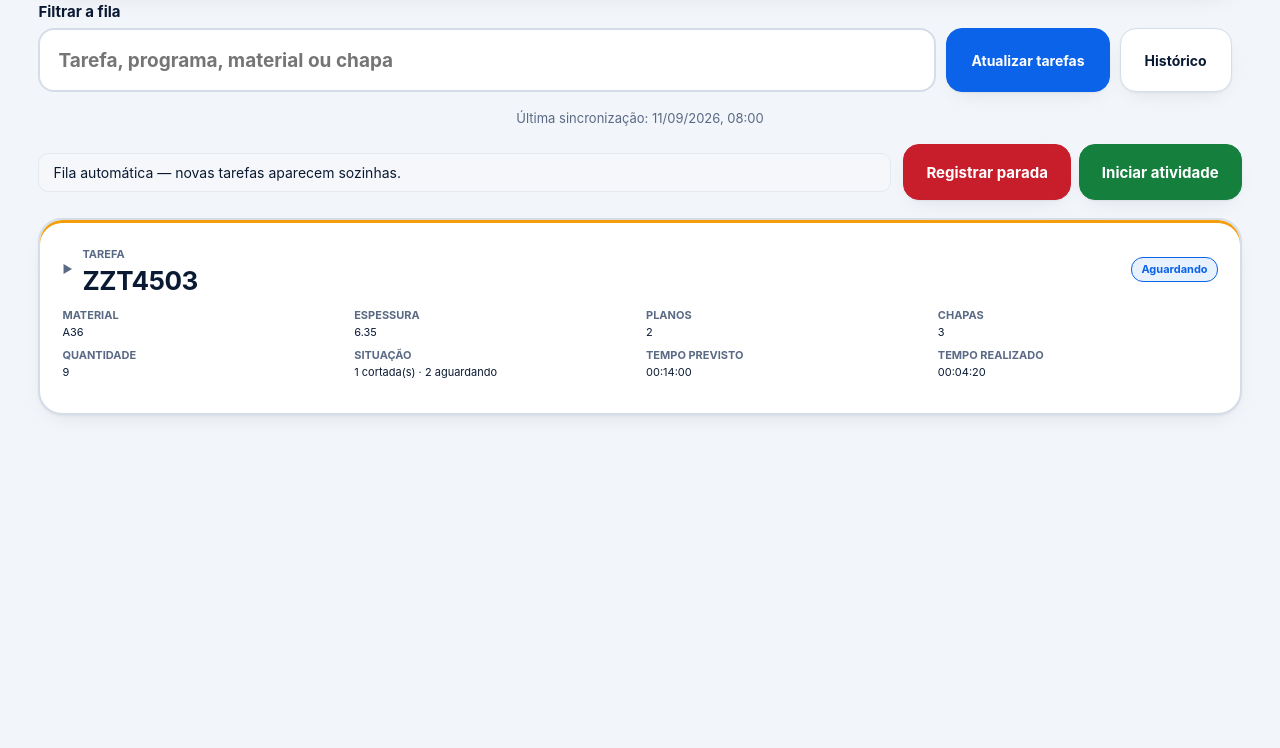
Test: hierarquia da tela de Corte › renderiza tarefa, planos, OPs e produtos sem abrir outra tela
Check: the heading "ZZT4503" is shown, box [82, 265, 198, 296]
Click the button "▶ Tarefa ZZT4503" at (130, 269), box [62, 242, 198, 296]
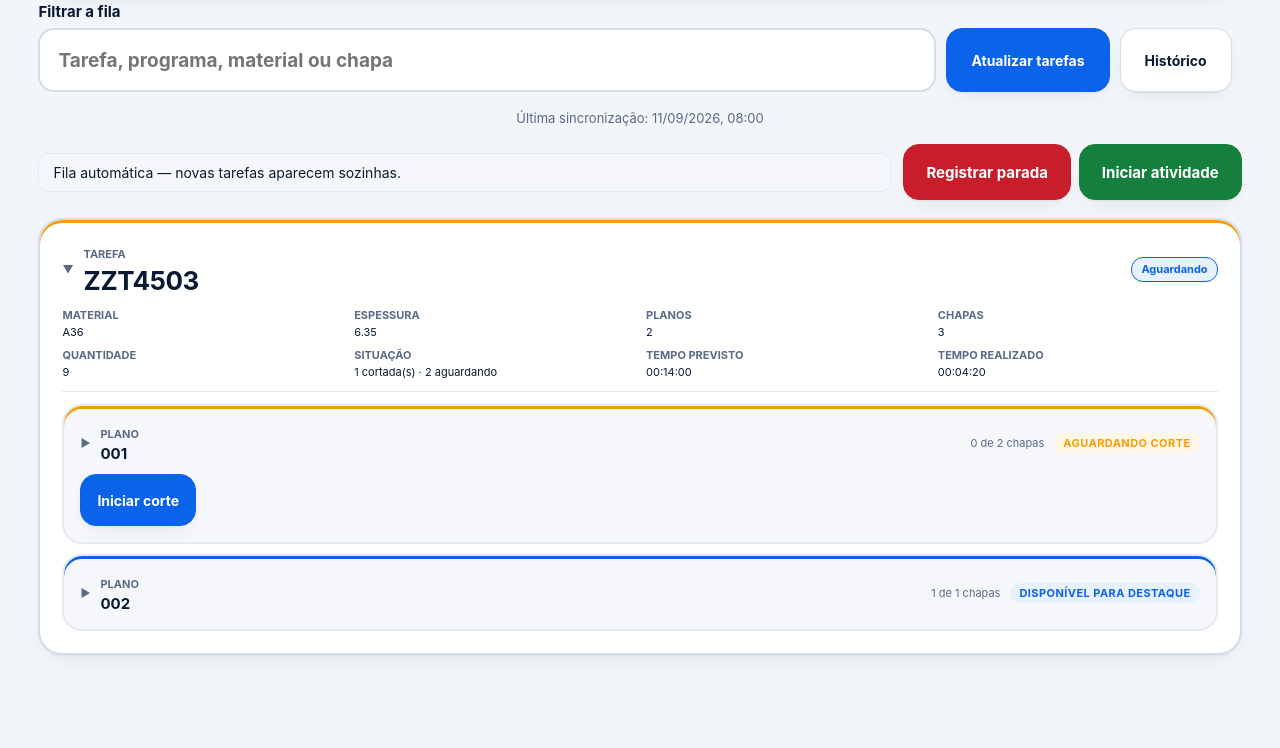
Check: the text "001" is shown, box [100, 444, 127, 463]
Check: the text "002" is shown, box [100, 594, 130, 613]
Click the 1st button with class "cutting-plan__toggle" at (120, 434), box [80, 422, 1200, 463]
(page scrolled)
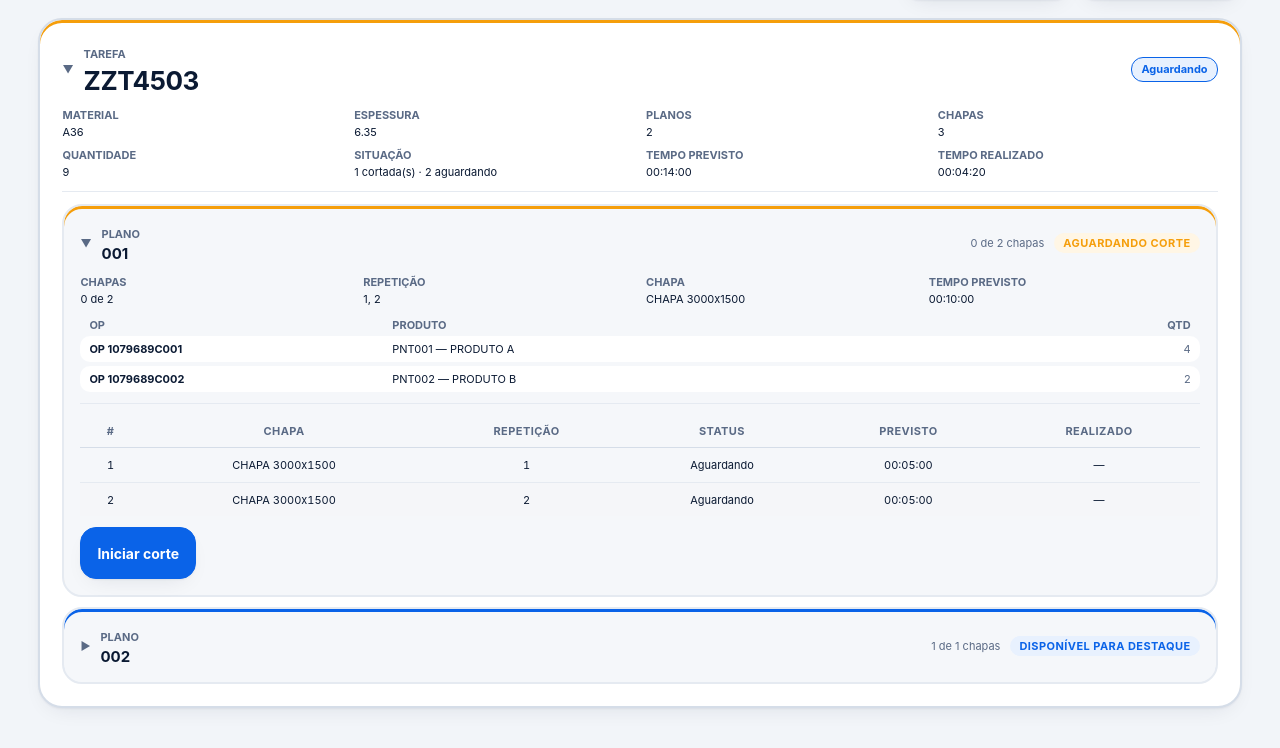
Check: the text "OP 1079689C001" is shown, box [89, 342, 182, 356]
Check: the text "PNT001 — PRODUTO A" is shown, box [392, 342, 514, 356]
Check: the text "OP 1079689C002" is shown, box [89, 372, 184, 386]
Click the 2nd button with class "cutting-plan__toggle" at (120, 637), box [80, 625, 1200, 666]
(page scrolled)
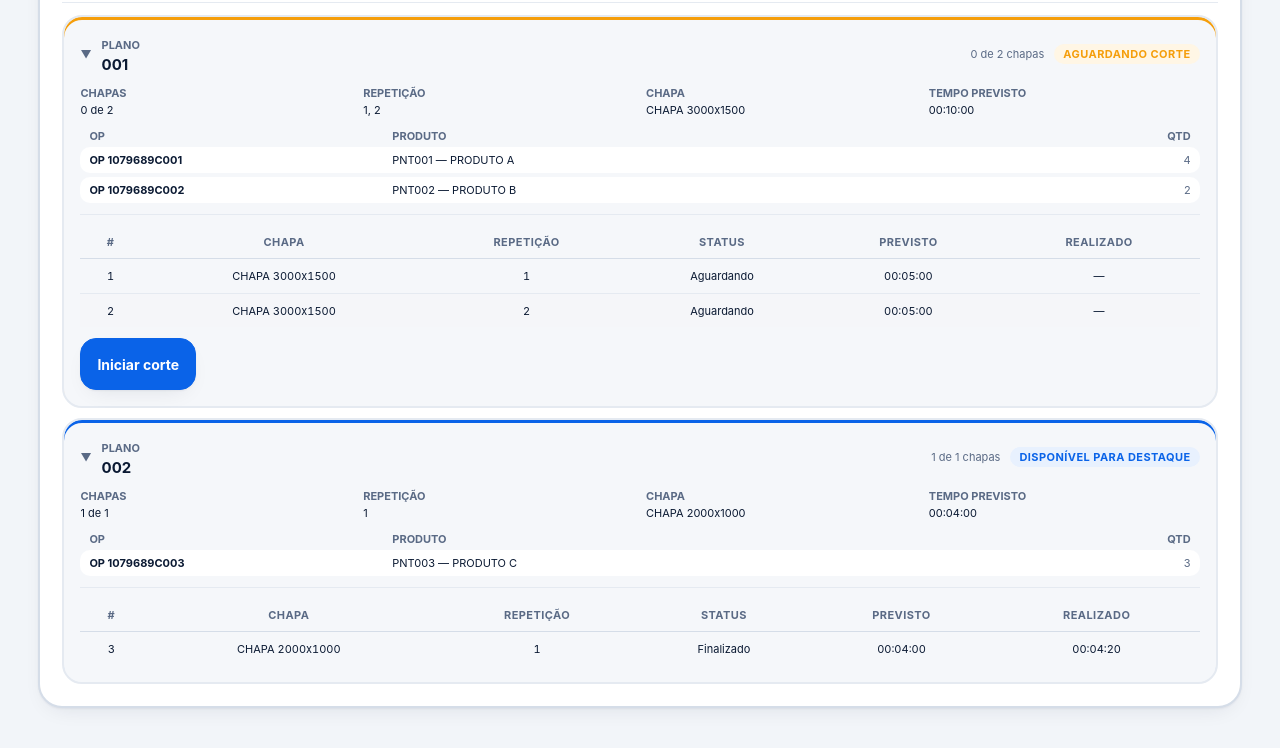
Check: the text "OP 1079689C003" is shown, box [89, 556, 184, 570]
